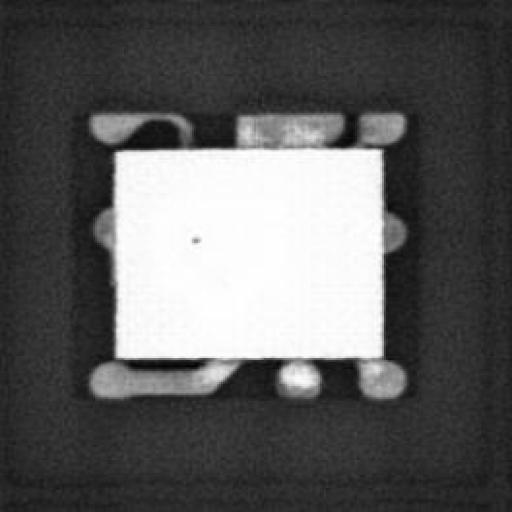DIE_INK: (184, 228, 204, 245)
